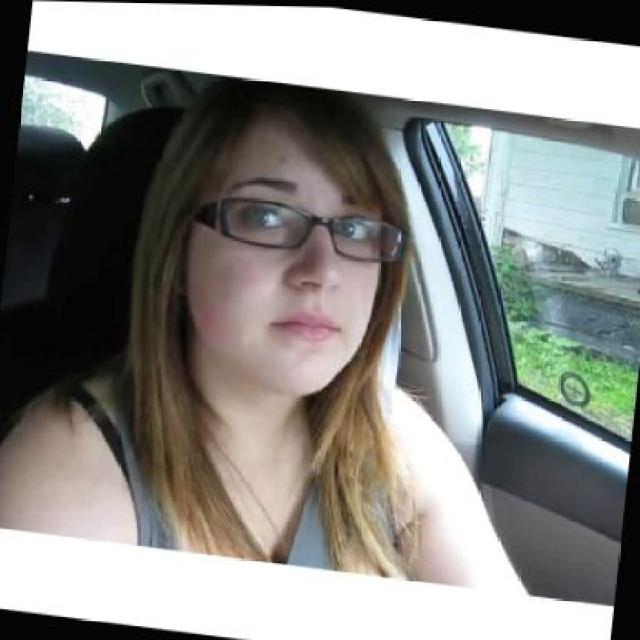attentif: (168, 70, 423, 402)
